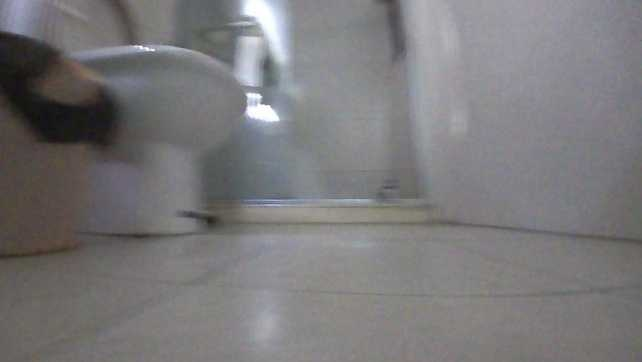toilet: (60, 41, 249, 235)
trash_can: (0, 30, 127, 257)
